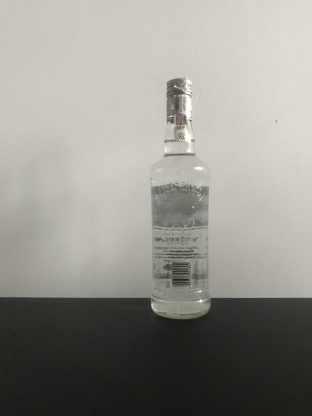nakretka: (164, 75, 194, 124)
